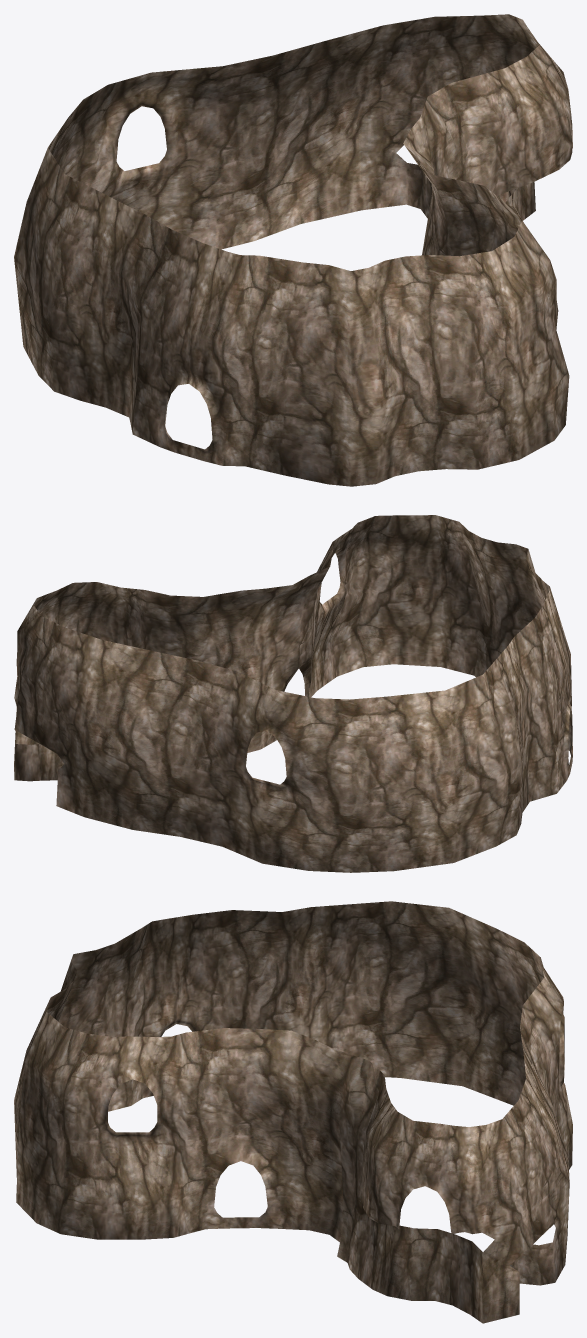
Rendered from OVERHILL_A_01_OBJECT211.fbx.
3 renders of one model, top to bottom at view 1: azimuth 30°, elevation 25°; view 2: azimuth 150°, elevation 25°; view 3: azimuth 270°, elevation 25°, orthographic. The views are drawn at different scales.
Visible parts, largest first — view 1: OVERHILL_A_01_OBJECT211; view 2: OVERHILL_A_01_OBJECT211; view 3: OVERHILL_A_01_OBJECT211.
Part boxes in pixels (x1,y1,x2,y2): OVERHILL_A_01_OBJECT211: (14, 14, 572, 486); OVERHILL_A_01_OBJECT211: (14, 515, 572, 872); OVERHILL_A_01_OBJECT211: (14, 901, 572, 1323).
Bounding box in the file's own units: 313324 × 108956 × 294332.
Materials: 1 (1 with a texture image).
